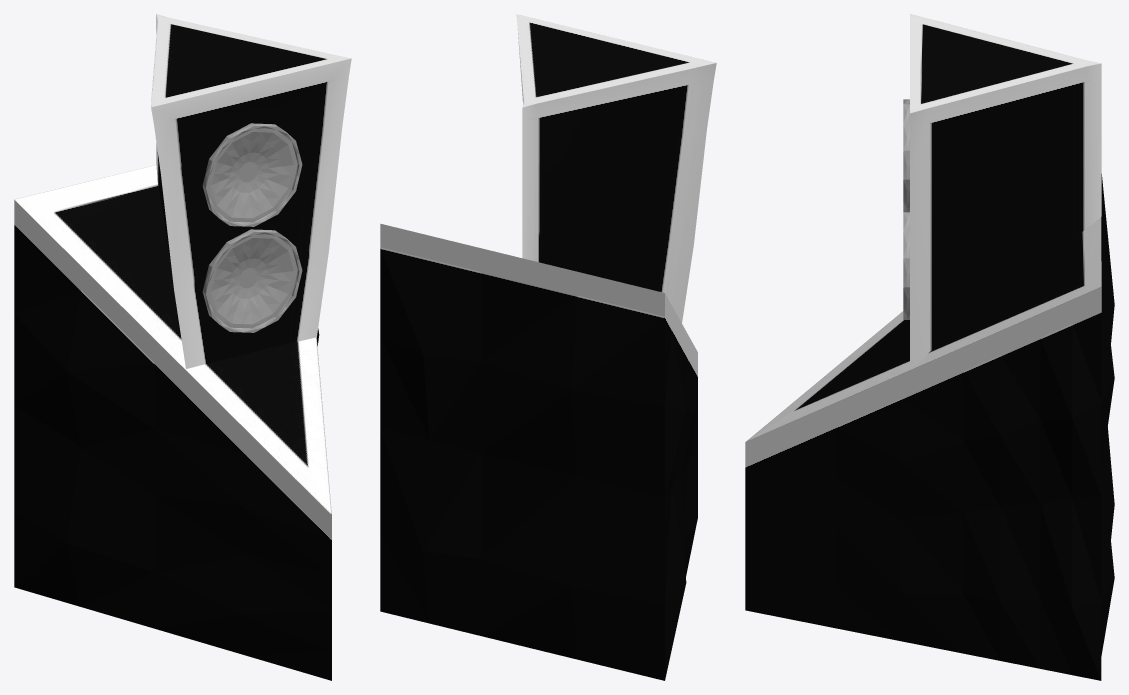
The model's file is SniperTower2.fbx.
The picture shows the model from 3 angles, left to right: view 1: azimuth 30°, elevation 25°; view 2: azimuth 150°, elevation 25°; view 3: azimuth 270°, elevation 25°; orthographic projection.
Parts seen in each view (by area): view 1: SniperBot, SniperTop2, Bass, Bass2; view 2: SniperBot, SniperTop2; view 3: SniperBot, SniperTop2, Bass, Bass2.
Part boxes in pixels (x1,y1,x2,y2): SniperBot: (14, 165, 331, 680); SniperTop2: (151, 14, 351, 368); Bass: (202, 123, 302, 226); Bass2: (202, 229, 302, 332); SniperBot: (380, 223, 697, 680); SniperTop2: (516, 14, 716, 322); SniperBot: (745, 174, 1114, 680); SniperTop2: (910, 14, 1101, 369); Bass: (903, 99, 909, 212); Bass2: (903, 212, 909, 319).
Size of the model in its own units: 1.75 by 3.13 by 1.92.
